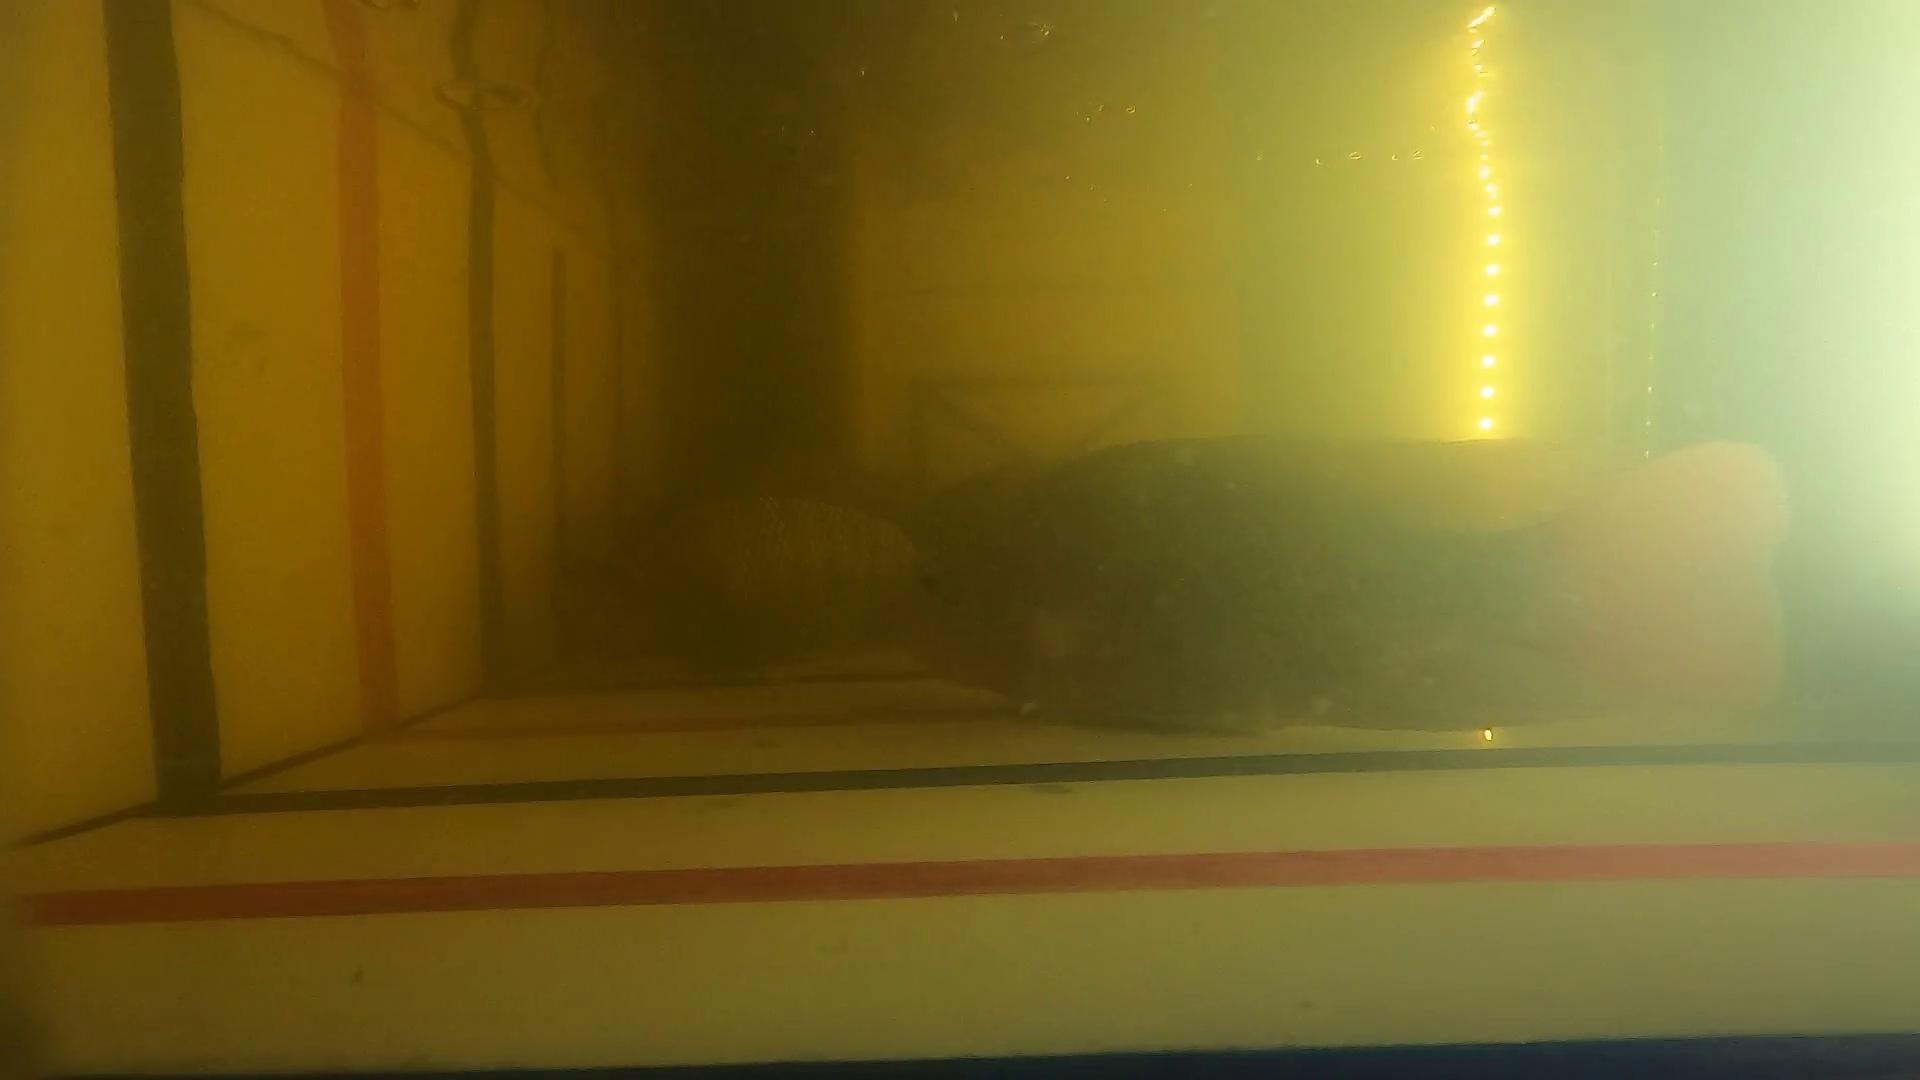Tilapia: (914, 439, 1793, 738), (575, 465, 1009, 688)
